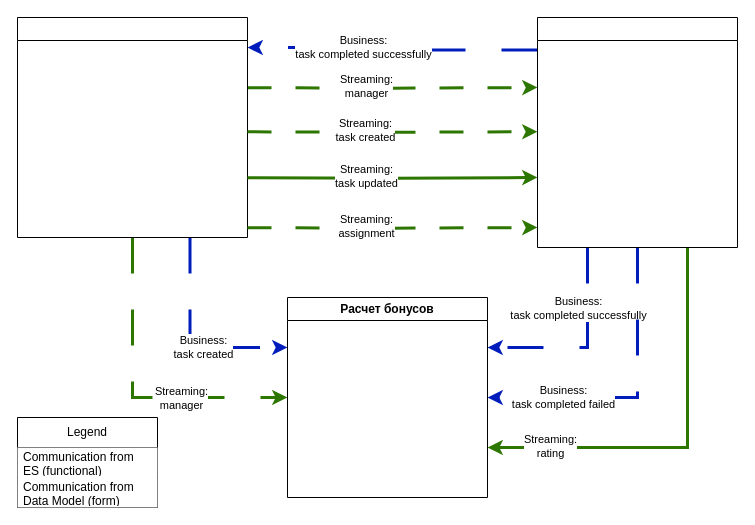
The diagram is 755 pixels wide and 525 high, and some of its shapes have lost their labels. Here are the shapes that lost their labels. From the top down, the centre of each, then its label:
the point at 132,127: Менеджмент заданий
the point at 637,132: Найм
